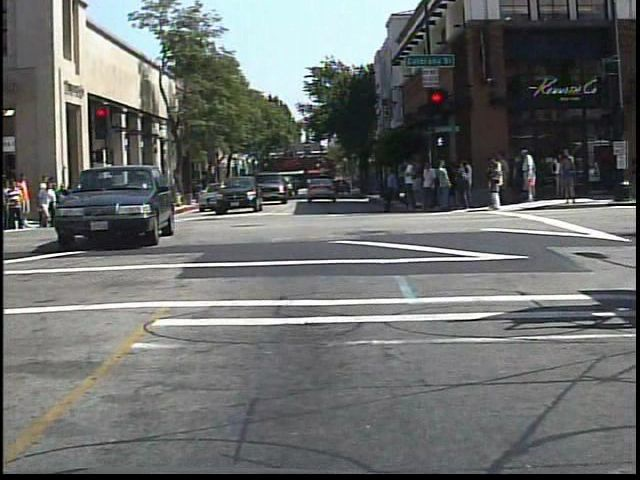person: (518, 148, 543, 206), (39, 175, 61, 231), (7, 178, 29, 232)
